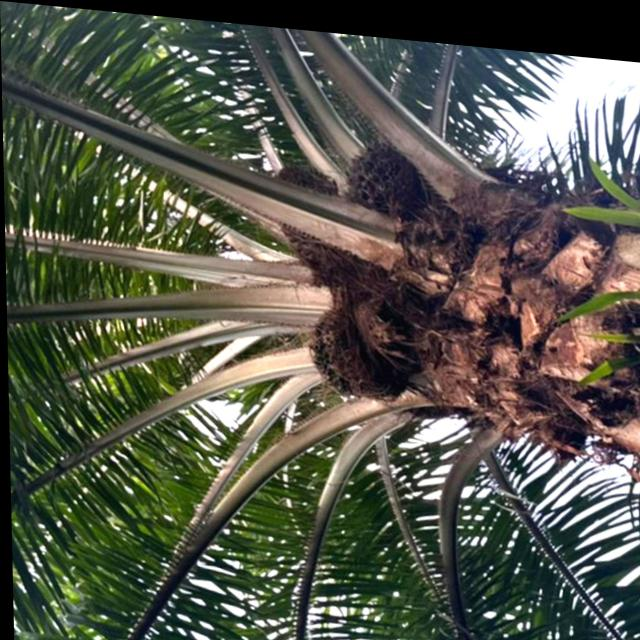unripe: (301, 289, 401, 397), (345, 126, 429, 210)
